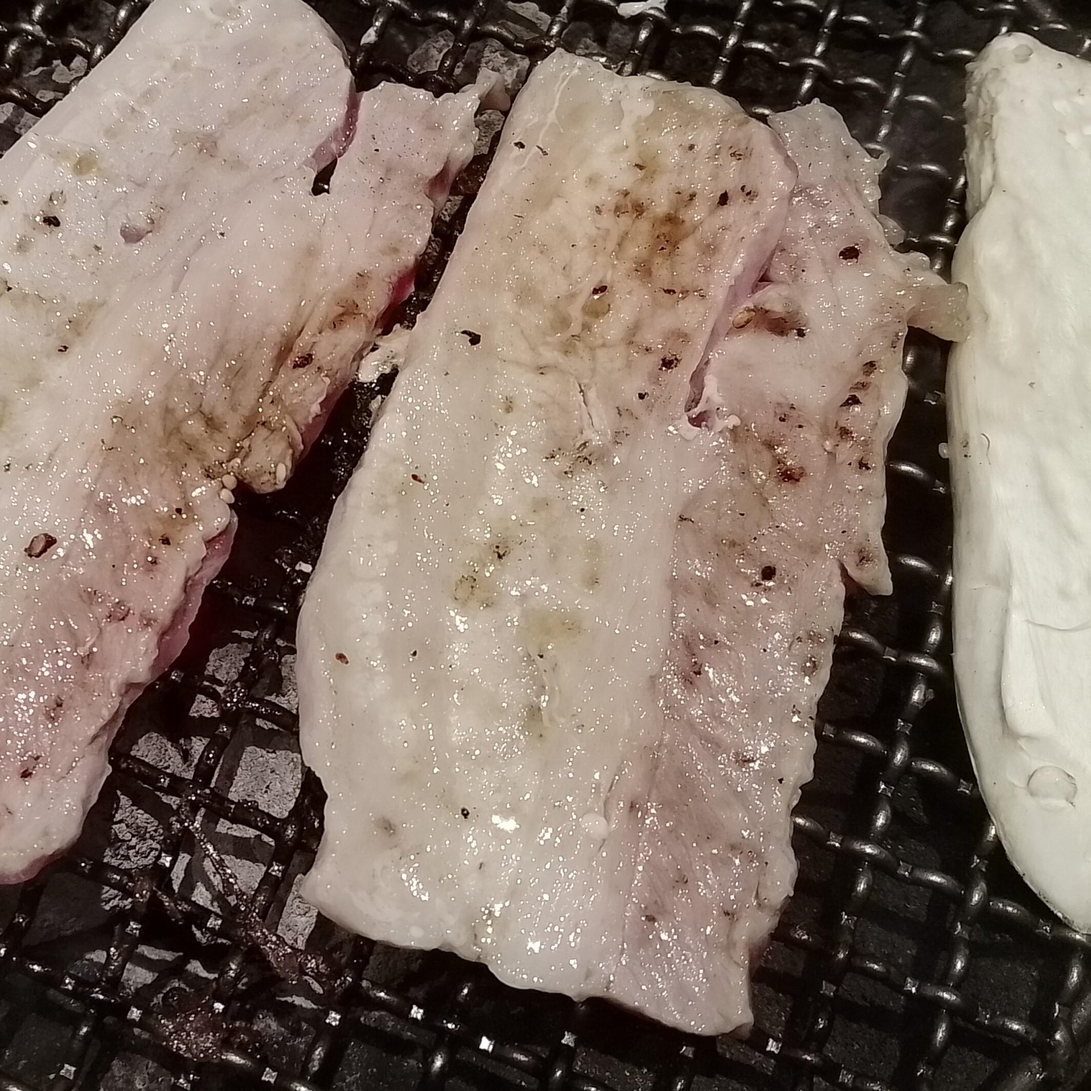Undercooked: (293, 54, 955, 1043), (0, 83, 483, 874), (0, 0, 350, 335)
